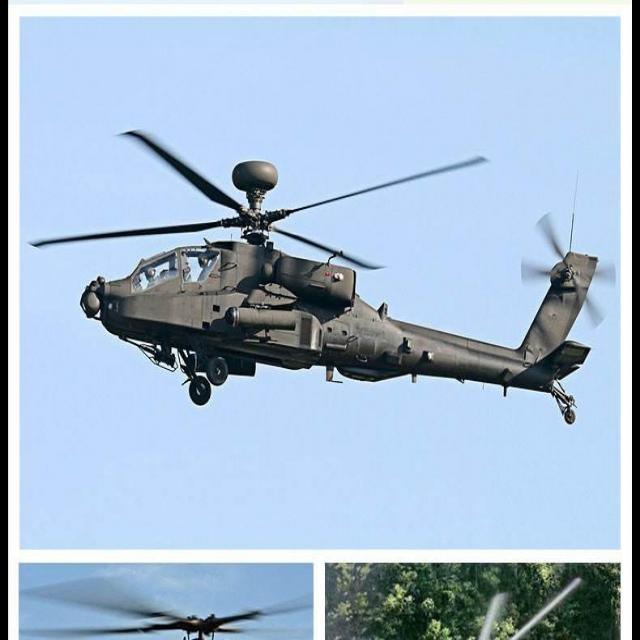MIL_HELO: (18, 122, 618, 434)
